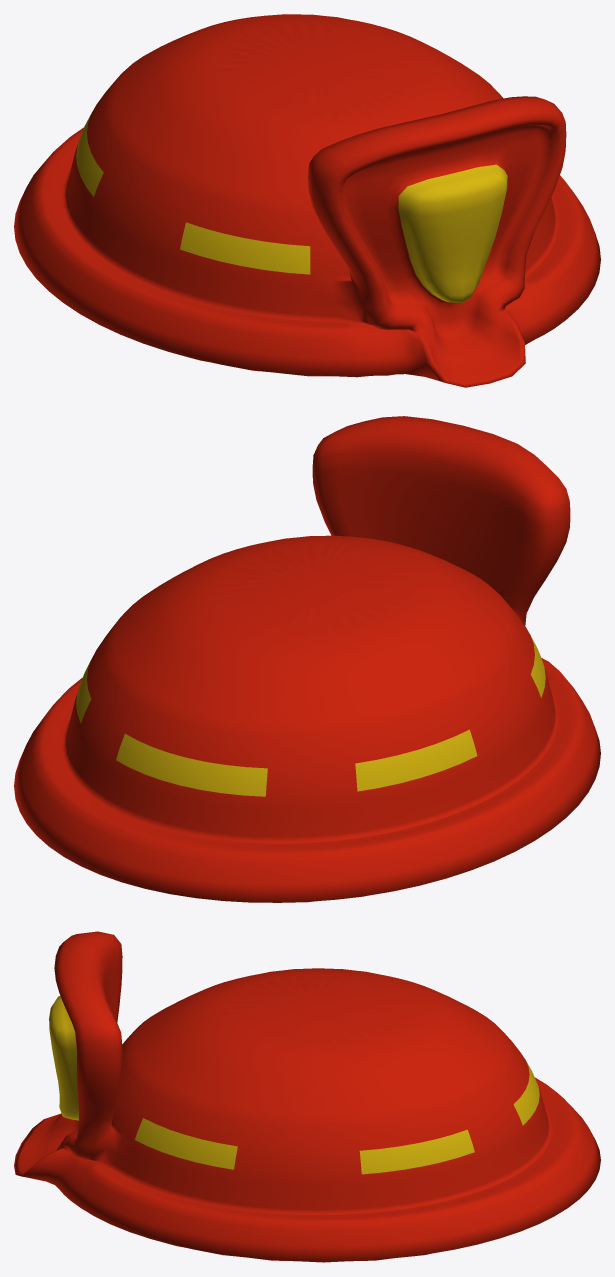
File: fire_fighter_hat.fbx
3 renders of one model, top to bottom at view 1: azimuth 30°, elevation 25°; view 2: azimuth 150°, elevation 25°; view 3: azimuth 270°, elevation 25°, orthographic. The views are drawn at different scales.
Visible parts, largest first — view 1: Circle; view 2: Circle; view 3: Circle.
Boxes of the visible parts, x1,y1,x2,y2 form: Circle: [14, 14, 600, 387]; Circle: [14, 416, 600, 902]; Circle: [14, 931, 600, 1262].
Bounding box in the file's own units: 158 × 74.88 × 193.
Materials: 1 (1 with a texture image).
